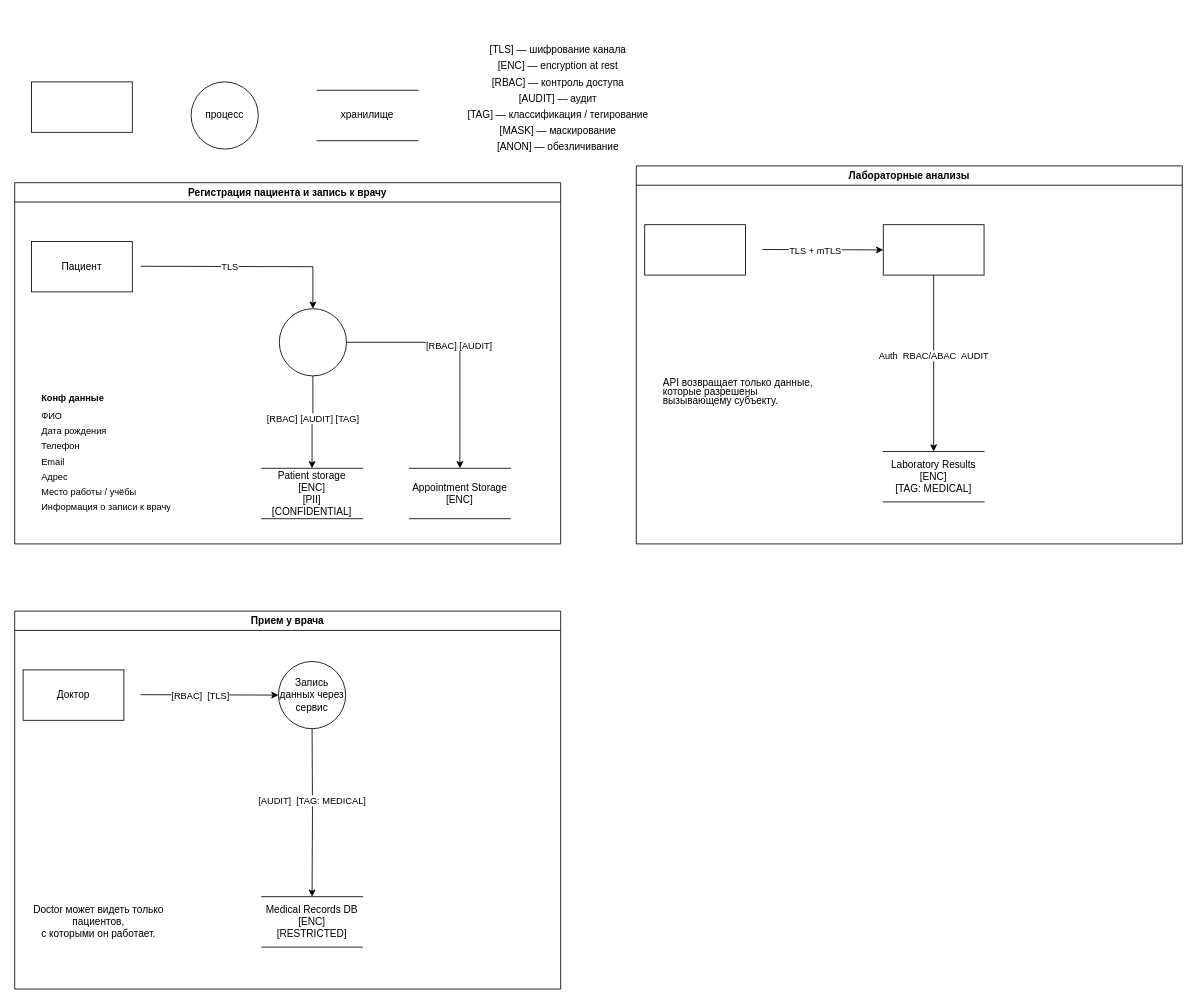
The diagram is 1197 pixels wide and 1004 high, and some of its shapes have lost their labels. Here are the shapes that lost their labels. From the top down, the box of each, then its label:
(31, 81, 132, 132): внешняя сущность
(644, 224, 746, 275): Лаборатория
(882, 224, 984, 275): API
(278, 308, 346, 376): Регистрация
